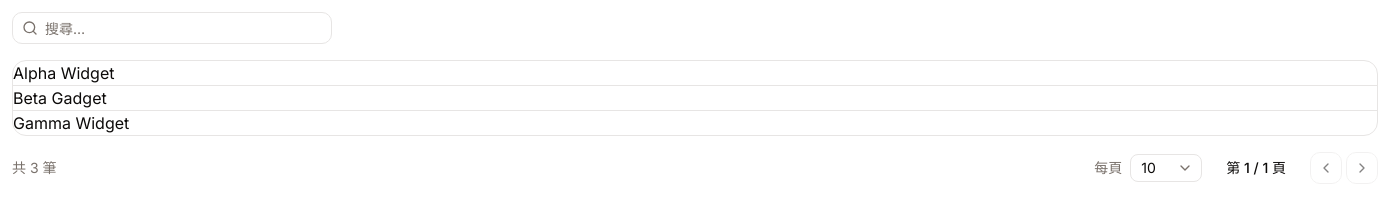
DataTable — mobile card mode (E338) › an empty filter result renders emptyState in card mode too
Type "nonexistent-xyz" into the field with placeholder "搜尋…" at (172, 28), box top-left (12, 12), bottom-right (332, 44)
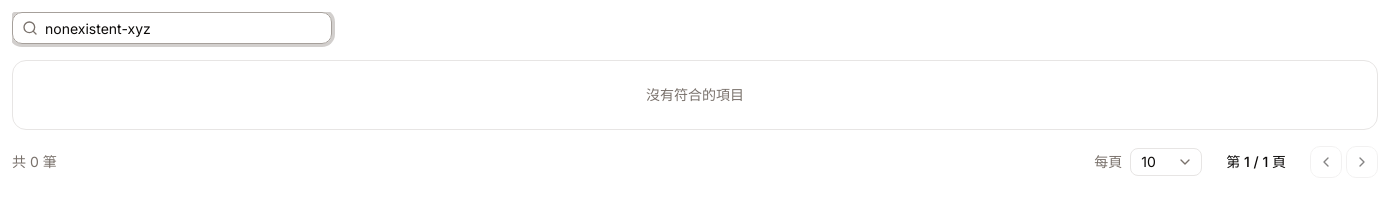
Expected: the text "沒有符合的項目" is shown, top-left (646, 86), bottom-right (744, 103)
